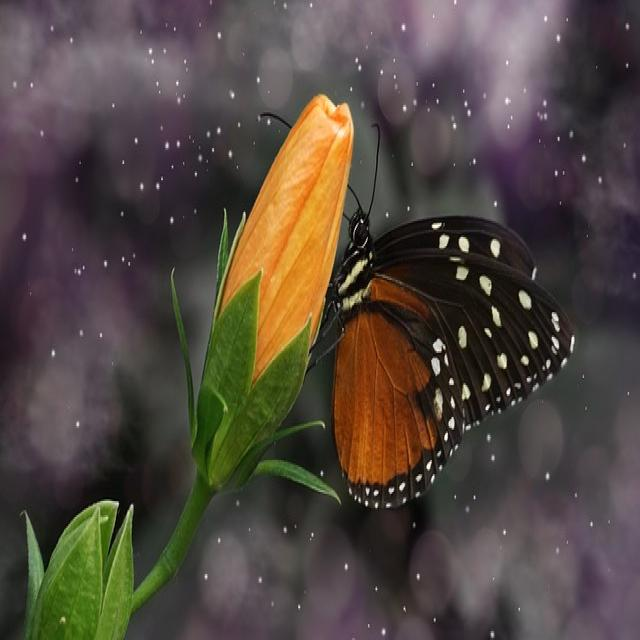butterfly: (286, 216, 576, 512)
